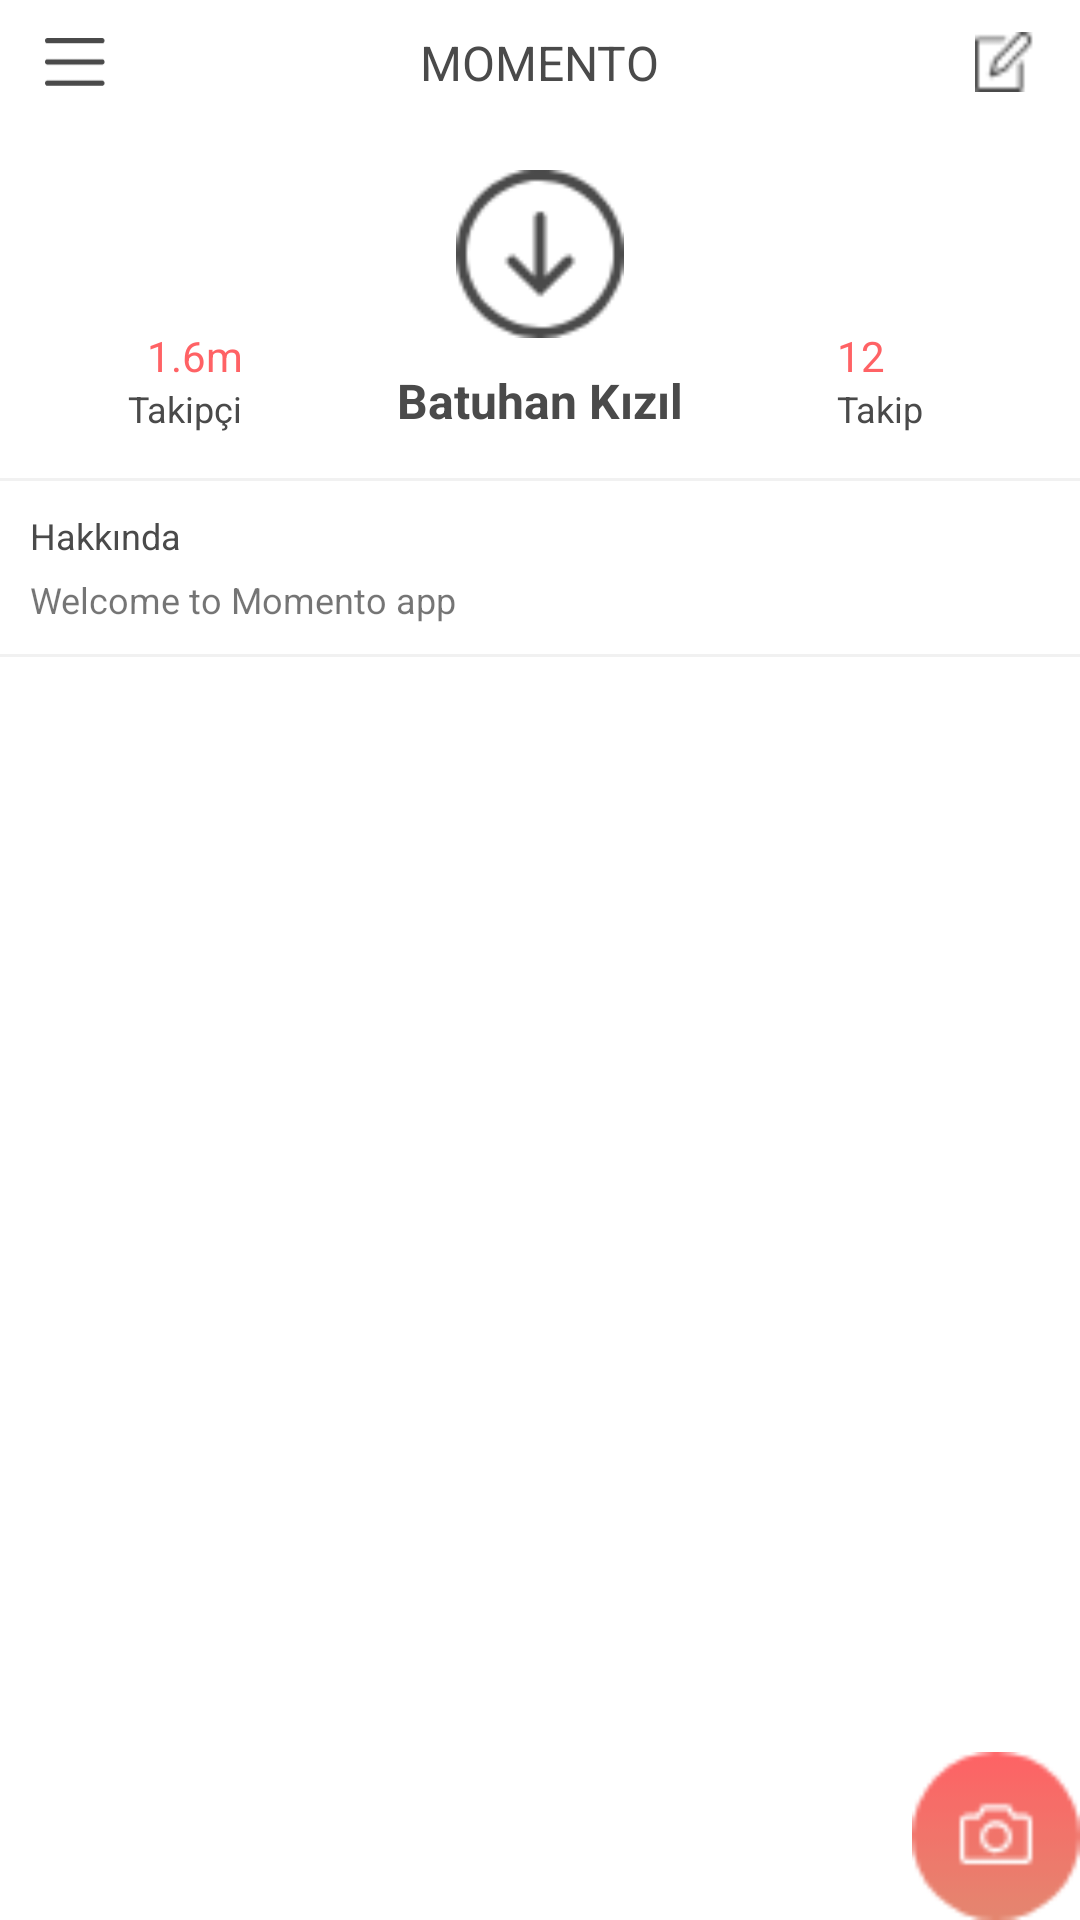

Icon click points for this 1080x1920 phone screenshot, format point (x, y):
edit profile: point (1004, 62)
menu: point (75, 62)
photo camera: point (996, 1836)
photo save: point (540, 254)
